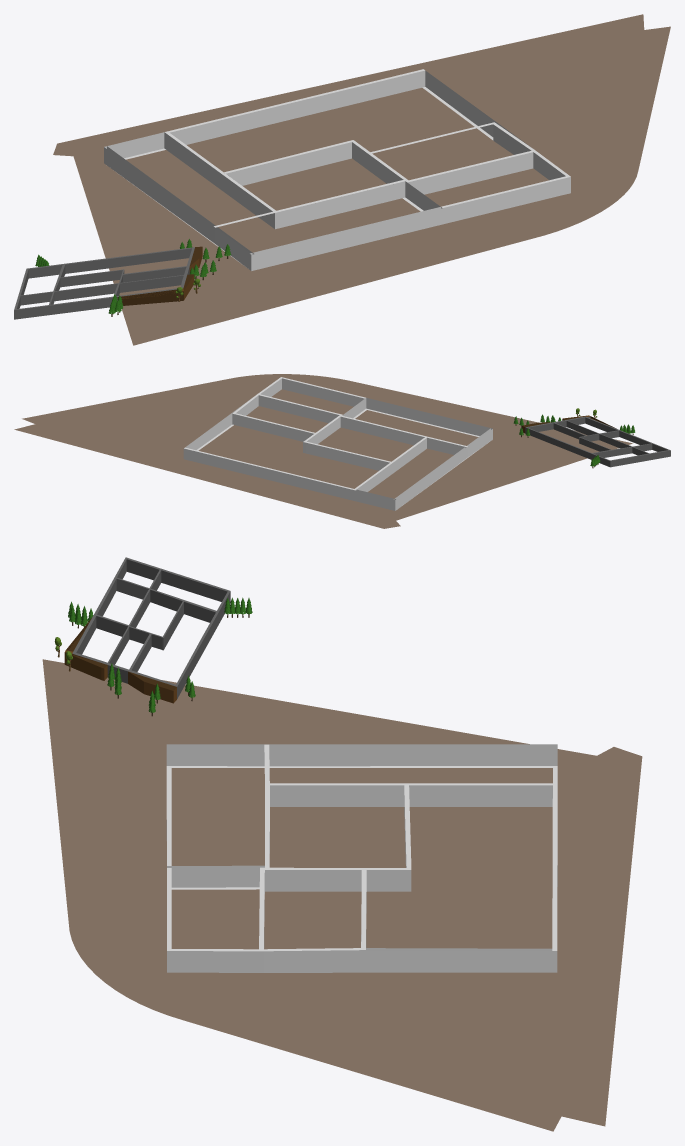
Rendered from Prueba Tamaño 1.glb.
The picture shows the model from 3 angles, top to bottom: view 1: azimuth 30°, elevation 25°; view 2: azimuth 150°, elevation 25°; view 3: azimuth 270°, elevation 25°; orthographic projection. The views are drawn at different scales.
Parts seen in each view (by area): view 1: Sketch, Sketch.008, Sketch.004; view 2: Sketch, Sketch.008, Sketch.004; view 3: Sketch, Sketch.008, Sketch.004.
Part boxes in pixels (x1,y1,x2,y2): Sketch: [53, 14, 670, 345]; Sketch.008: [104, 69, 570, 270]; Sketch.004: [14, 246, 202, 319]; Sketch: [14, 374, 632, 528]; Sketch.008: [183, 377, 492, 510]; Sketch.004: [522, 415, 670, 467]; Sketch: [42, 659, 642, 1131]; Sketch.008: [166, 744, 557, 972]; Sketch.004: [64, 557, 230, 703].
Size of the model in its own units: 1281 by 64.36 by 613.
